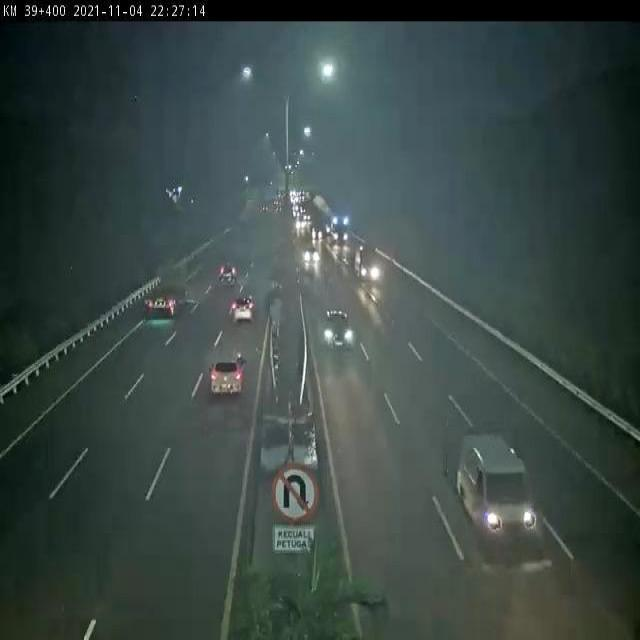car: (457, 428, 538, 543), (207, 349, 248, 396), (322, 307, 356, 352), (229, 294, 254, 322), (218, 262, 239, 286)
truck-m-: (143, 263, 191, 320)
